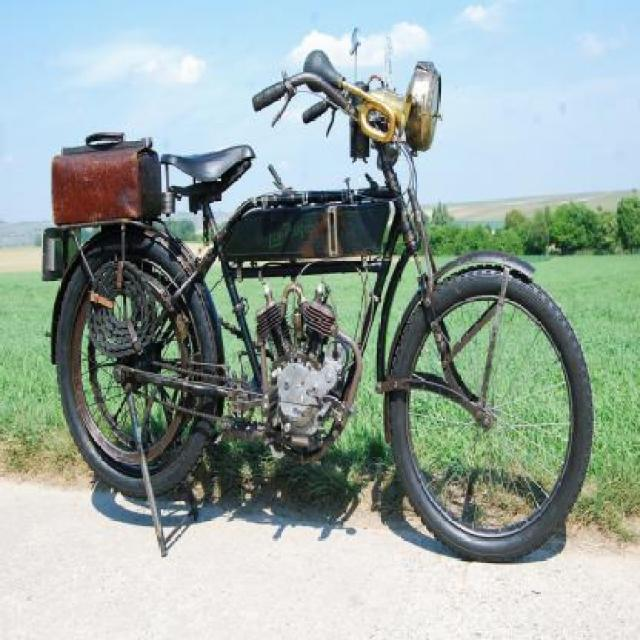bus: (40, 24, 595, 565)
